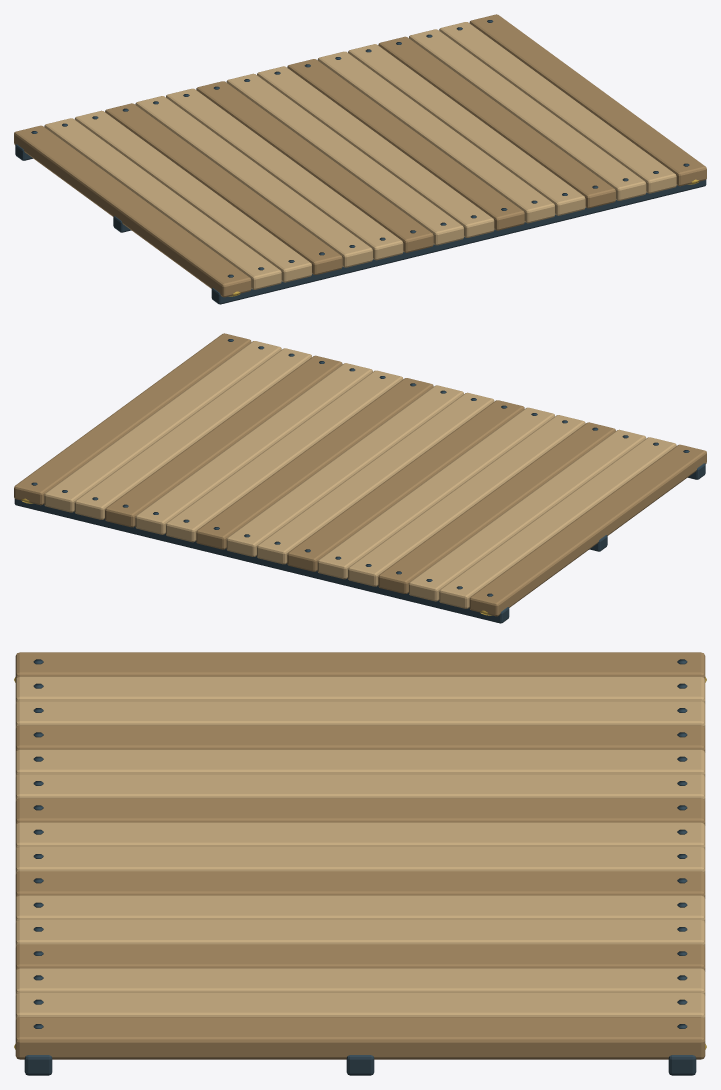
File: deck.glb
The picture shows the model from 3 angles, top to bottom: view 1: azimuth 30°, elevation 25°; view 2: azimuth 150°, elevation 25°; view 3: azimuth 270°, elevation 25°; orthographic projection. The views are drawn at different scales.
Visible parts, largest first — view 1: tyaga-deck-open-surface; view 2: tyaga-deck-open-surface; view 3: tyaga-deck-open-surface.
Boxes of the visible parts, x1,y1,x2,y2 form: tyaga-deck-open-surface: (14, 14, 706, 304); tyaga-deck-open-surface: (14, 333, 706, 623); tyaga-deck-open-surface: (14, 652, 706, 1075).
Bounding box in the file's own units: 4 × 0.18 × 3.
